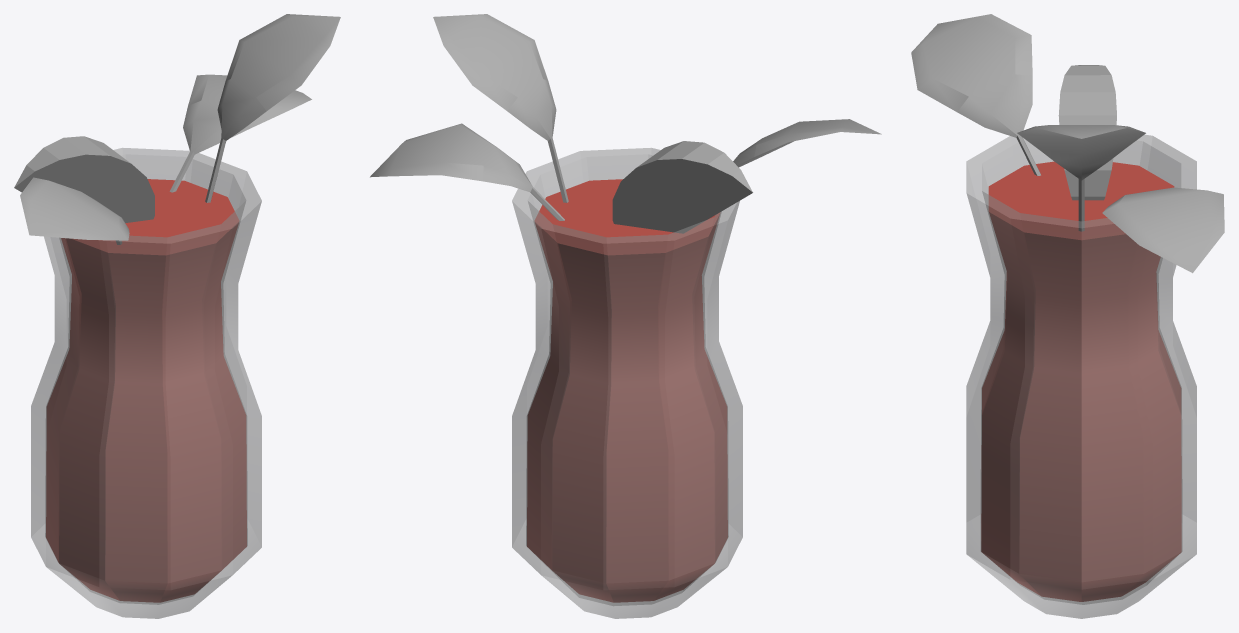
The model's file is Mary_Beta.fbx.
3 views of the same model, side by side, from view 1: azimuth 30°, elevation 25°; view 2: azimuth 150°, elevation 25°; view 3: azimuth 270°, elevation 25° (orthographic). The views are drawn at different scales.
Visible parts, largest first — view 1: Cup, Mary, Leaf_1, Lime, Leaf_2, Leaf_3; view 2: Cup, Mary, Lime, Leaf_1, Leaf_3, Leaf_2; view 3: Cup, Mary, Leaf_2, Leaf_3, Leaf_1, Lime.
Part boxes in pixels (x1,y1,x2,y2): Cup: (31, 148, 261, 618); Mary: (46, 179, 246, 602); Leaf_1: (205, 14, 340, 202); Lime: (14, 136, 154, 222); Leaf_2: (20, 177, 129, 244); Leaf_3: (169, 74, 311, 192); Cup: (512, 148, 742, 618); Mary: (527, 179, 727, 602); Lime: (612, 141, 752, 233); Leaf_1: (433, 14, 568, 202); Leaf_3: (370, 123, 564, 220); Leaf_2: (733, 119, 881, 167); Cup: (966, 134, 1196, 618); Mary: (981, 161, 1181, 601); Leaf_2: (911, 14, 1040, 175); Leaf_3: (1102, 187, 1224, 273); Leaf_1: (1017, 125, 1145, 231); Lime: (1058, 65, 1116, 200).
Bounding box in the file's own units: 16.26 × 21.1 × 10.84.
